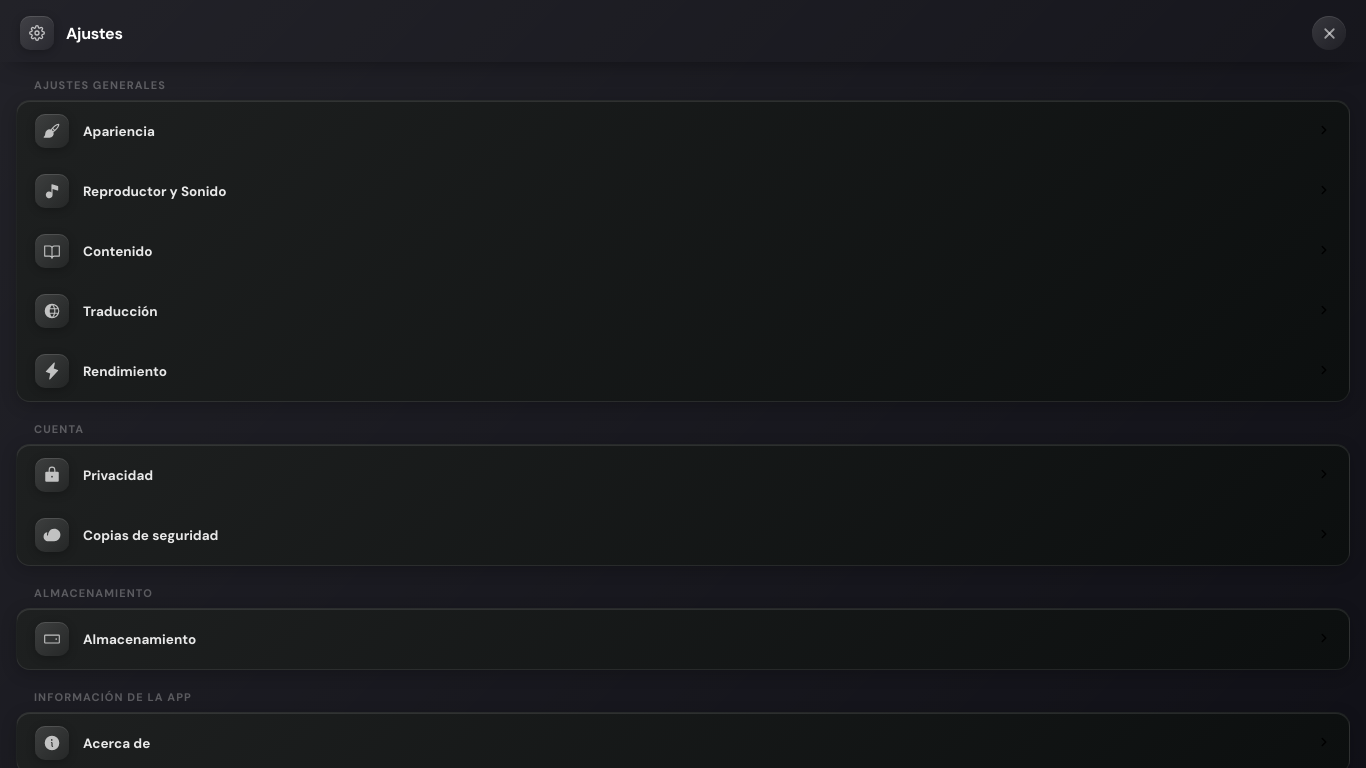
Test case: SettingsPanel › should navigate to player page when clicked
Click the text "Reproductor y Sonido" at coordinates (155, 191), box [83,182,226,200]
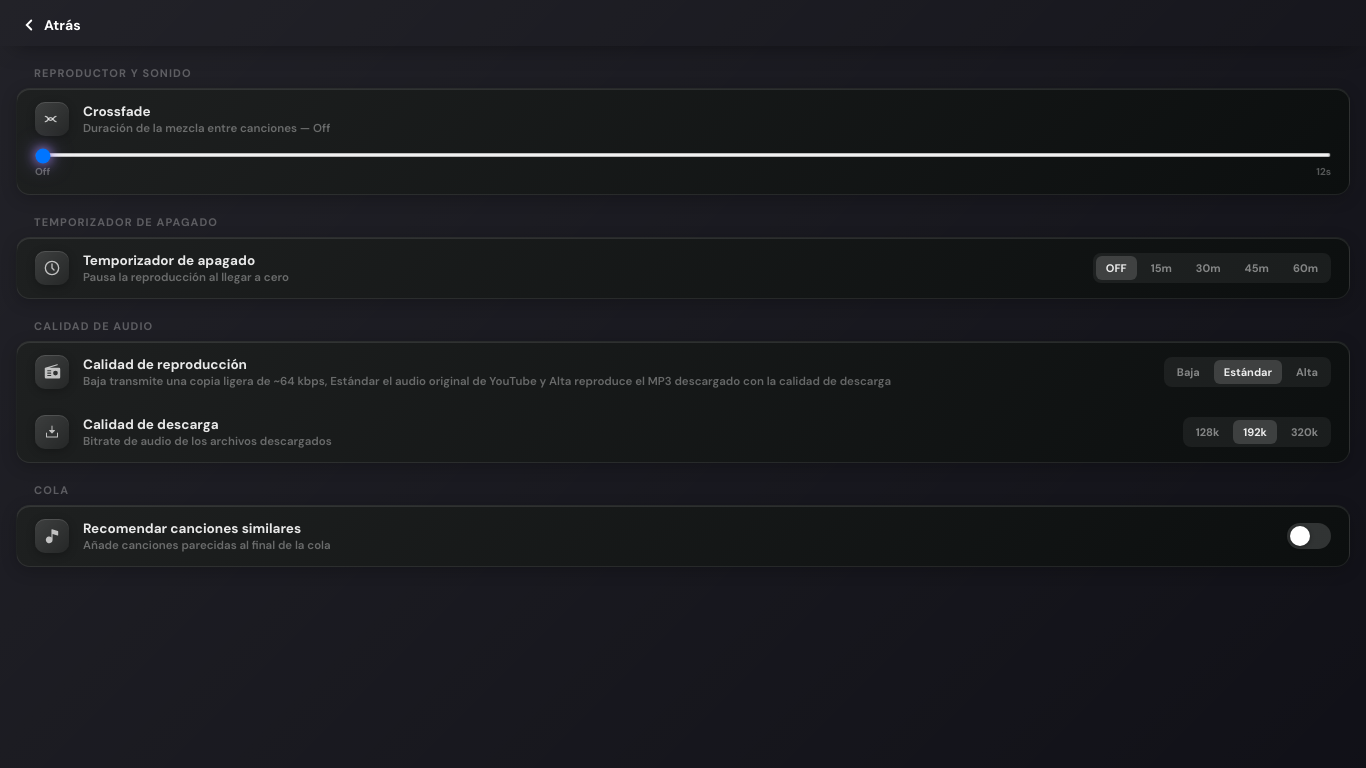
Expected: the text "Crossfade" is shown, [83,102,151,120]
